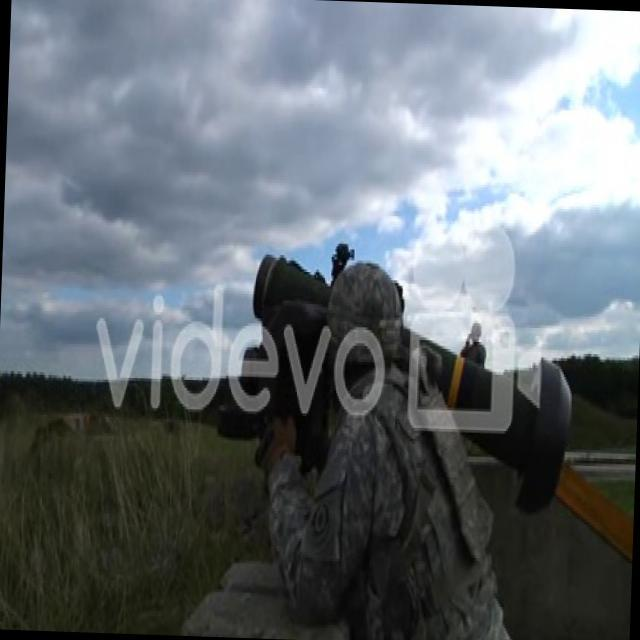rocket: (401, 337, 578, 520)
